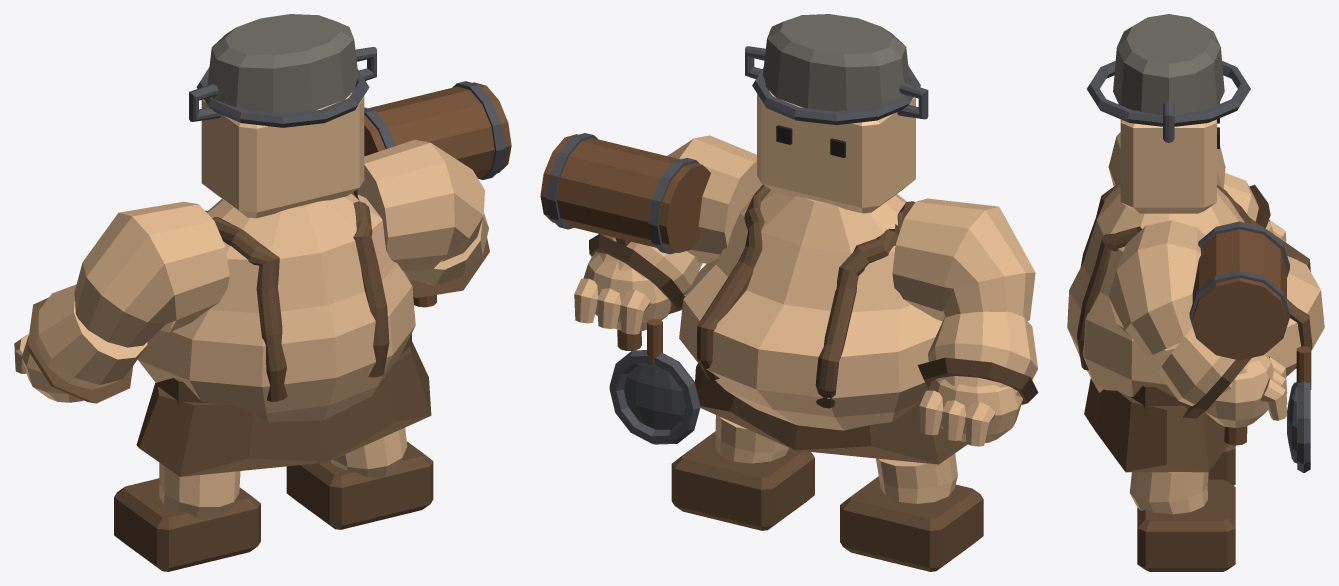
Rendered from host_03.glb.
3 renders of one model, left to right at view 1: azimuth 30°, elevation 25°; view 2: azimuth 150°, elevation 25°; view 3: azimuth 270°, elevation 25°, orthographic. The views are drawn at different scales.
Parts seen in each view (by area): view 1: V6 source anatomical thorax, Leather ragged skirt, V6 source anatomical upper arm L, Observed face, V6 cooking pot fitted inverted iron crown, V6 source anatomical upper arm R, Grounded boot L, Grounded boot R, V6 source solid rounded strapped mallet head, V6 source anatomical forearm L, V6 source contacting shoulder and back leather harness, V6 source anatomical shin L (+10 smaller); view 2: V6 source anatomical thorax, V6 source anatomical upper arm L, Observed face, V6 source solid rounded strapped mallet head, V6 cooking pot fitted inverted iron crown, Grounded boot L, Grounded boot R, Leather ragged skirt, V6 source anatomical upper arm R, V6 source anatomical forearm L, V6 source contacting shoulder and back leather harness, V6 ogre ONE contacting hanging iron pan rim (+20 smaller); view 3: V6 source anatomical thorax, V6 source solid rounded strapped mallet head, V6 cooking pot fitted inverted iron crown, V6 source anatomical upper arm R, Leather ragged skirt, Observed face, Grounded boot R, V6 source anatomical forearm R, V6 source anatomical shin R, V6 cooking pot seated thick iron rim, V6 source anatomical palm R, V6 source contacting shoulder and back leather harness.001 (+15 smaller).
Part boxes in pixels (<box>): V6 source anatomical thorax: <box>137,193,415,422</box>; Leather ragged skirt: <box>136,341,431,476</box>; V6 source anatomical upper arm L: <box>74,201,229,347</box>; Observed face: <box>201,92,364,218</box>; V6 cooking pot fitted inverted iron crown: <box>207,14,358,113</box>; V6 source anatomical upper arm R: <box>358,139,484,270</box>; Grounded boot L: <box>114,478,260,571</box>; Grounded boot R: <box>286,441,433,529</box>; V6 source solid rounded strapped mallet head: <box>364,82,511,177</box>; V6 source anatomical forearm L: <box>35,284,147,389</box>; V6 source contacting shoulder and back leather harness: <box>205,210,287,401</box>; V6 source anatomical shin L: <box>159,462,240,518</box>; V6 source anatomical thorax: <box>679,190,942,430</box>; V6 source anatomical upper arm L: <box>892,198,1035,321</box>; Observed face: <box>757,90,915,213</box>; V6 source solid rounded strapped mallet head: <box>540,134,710,252</box>; V6 cooking pot fitted inverted iron crown: <box>762,14,910,111</box>; Grounded boot L: <box>840,476,983,571</box>; Grounded boot R: <box>671,431,814,530</box>; Leather ragged skirt: <box>695,363,967,464</box>; V6 source anatomical upper arm R: <box>667,135,762,263</box>; V6 source anatomical forearm L: <box>928,311,1037,396</box>; V6 source contacting shoulder and back leather harness: <box>815,201,914,408</box>; V6 ogre ONE contacting hanging iron pan rim: <box>609,350,700,444</box>; V6 source anatomical thorax: <box>1067,186,1324,397</box>; V6 source solid rounded strapped mallet head: <box>1192,221,1286,360</box>; V6 cooking pot fitted inverted iron crown: <box>1113,14,1224,115</box>; V6 source anatomical upper arm R: <box>1108,220,1205,356</box>; Leather ragged skirt: <box>1084,378,1228,472</box>; Observed face: <box>1120,119,1216,213</box>; Grounded boot R: <box>1137,479,1235,571</box>; V6 source anatomical forearm R: <box>1158,327,1259,411</box>; V6 source anatomical shin R: <box>1129,472,1208,514</box>; V6 cooking pot seated thick iron rim: <box>1087,61,1250,126</box>; V6 source anatomical palm R: <box>1205,353,1273,427</box>; V6 source contacting shoulder and back leather harness.001: <box>1077,226,1312,370</box>.
Size of the model in its own units: 1.72 by 1.75 by 0.864.
